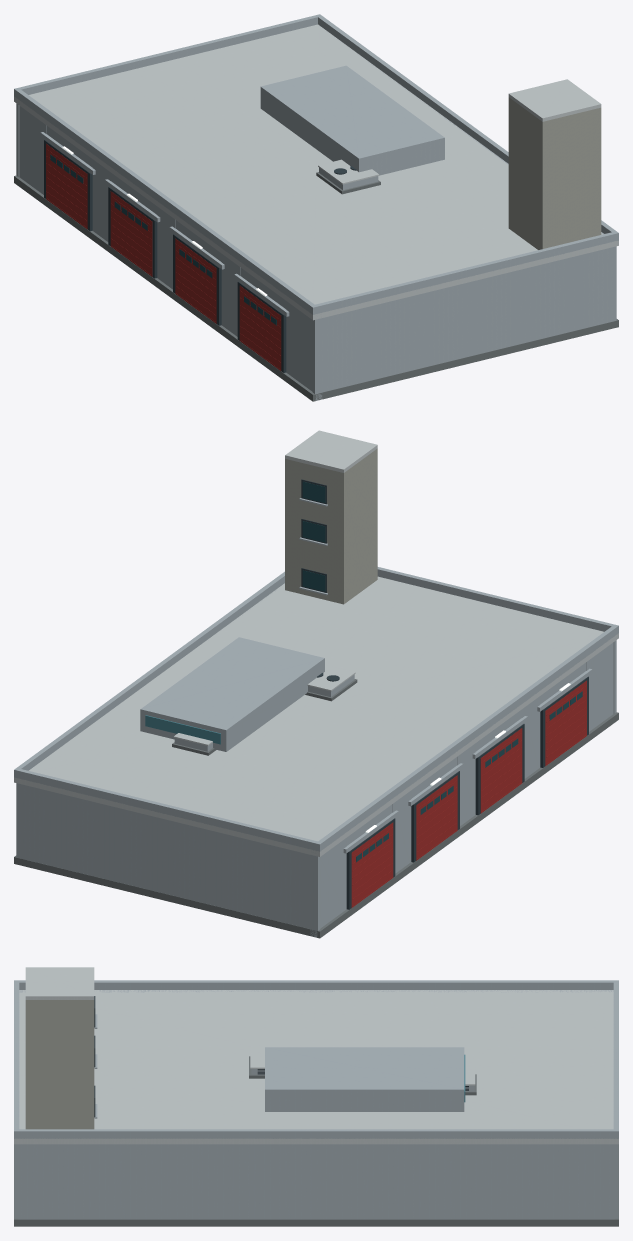
File: CMN_fire_station.glb
3 views of the same model, one above another, from view 1: azimuth 30°, elevation 25°; view 2: azimuth 150°, elevation 25°; view 3: azimuth 270°, elevation 25° (orthographic).
Parts seen in each view (by area): view 1: CMN_fire_station; view 2: CMN_fire_station; view 3: CMN_fire_station.
Boxes of the visible parts, x1,y1,x2,y2 form: CMN_fire_station: (14,14,618,401); CMN_fire_station: (14,430,618,938); CMN_fire_station: (14,967,618,1226).
Bounding box in the file's own units: 26 × 18 × 44.
12 materials, 12 textured.
